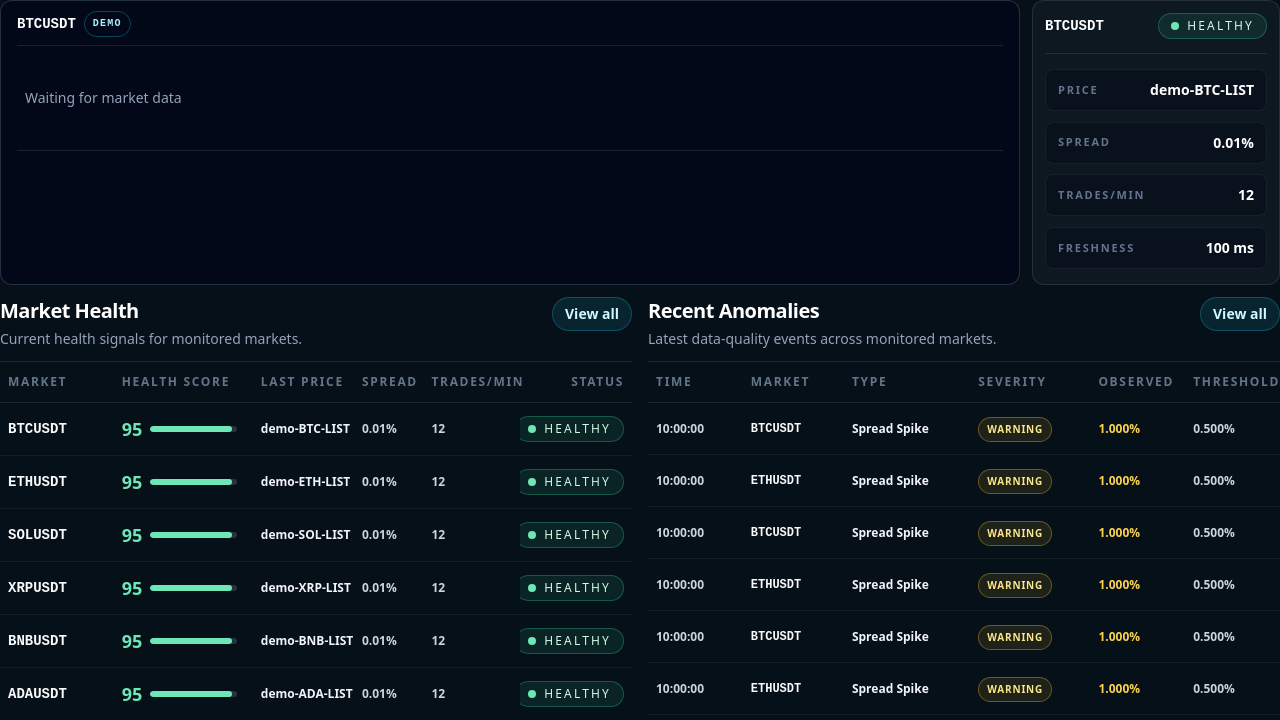
it: dashboard popup close behavior › closes with Escape
Click the button with aria-label "Open BTCUSDT market detail".
click(316, 429)  # box x1=0 y1=402 x2=632 y2=456
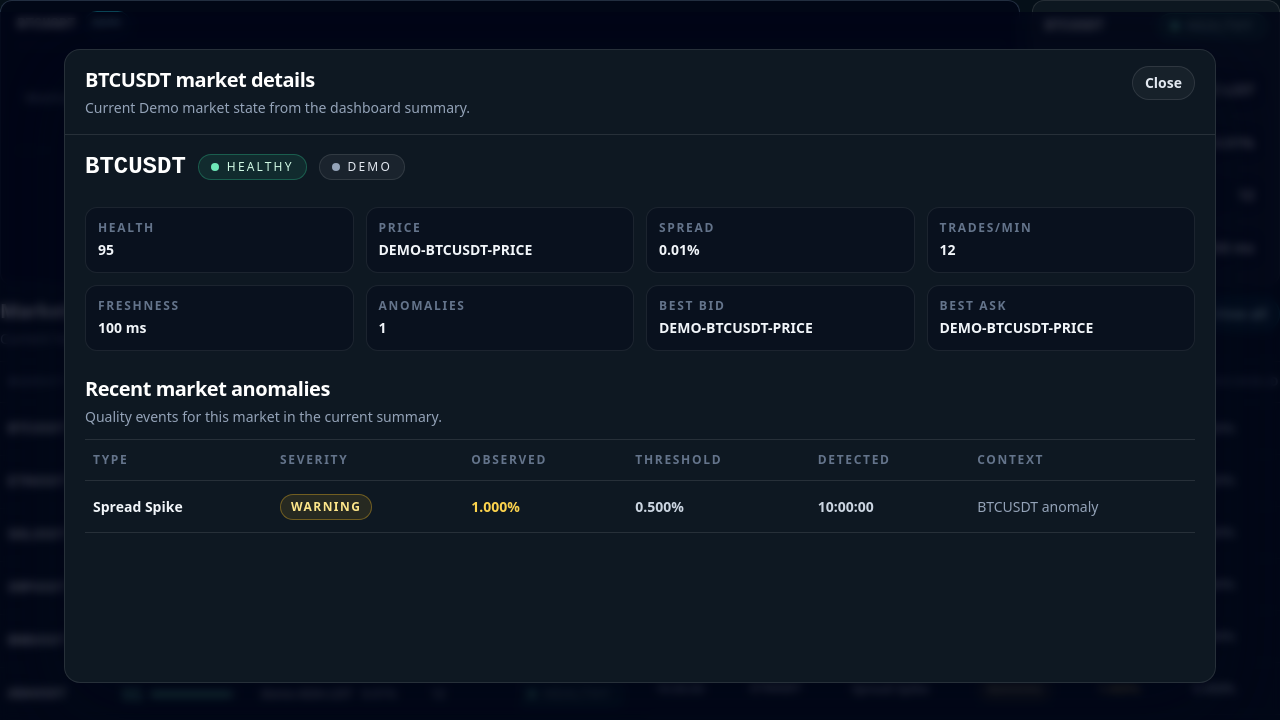
Press Escape
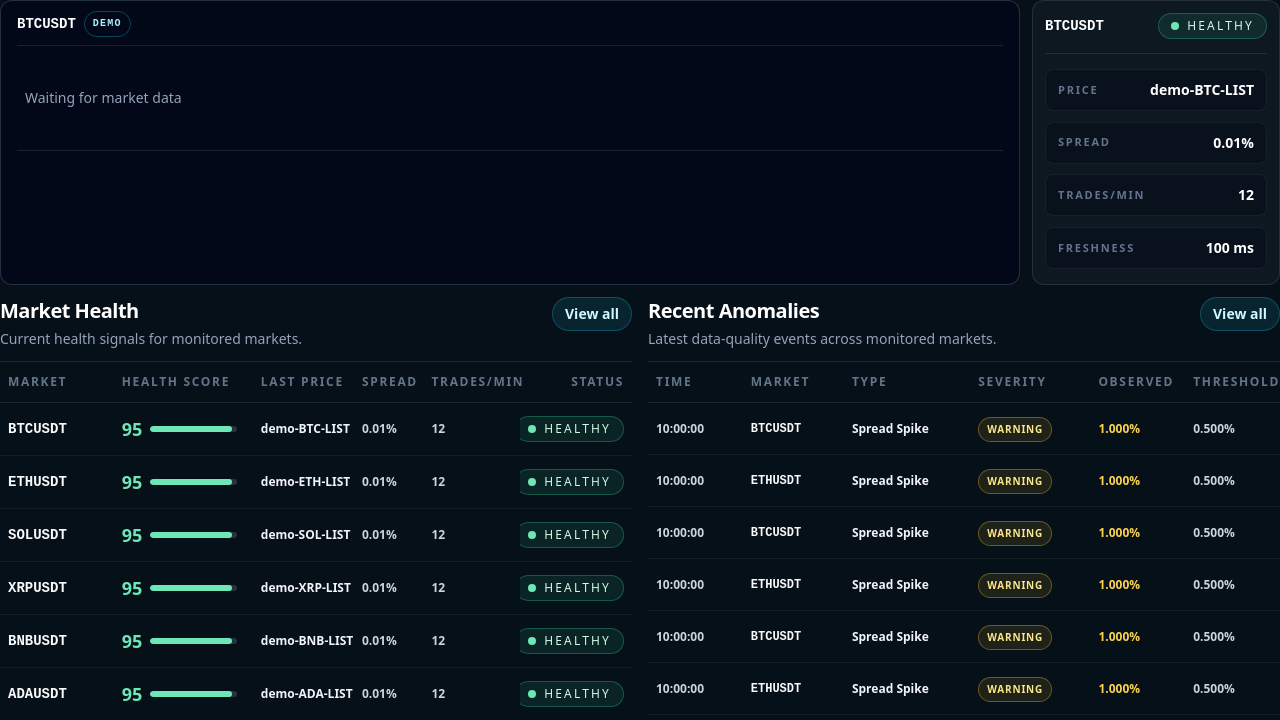
Result: the dialog is gone
